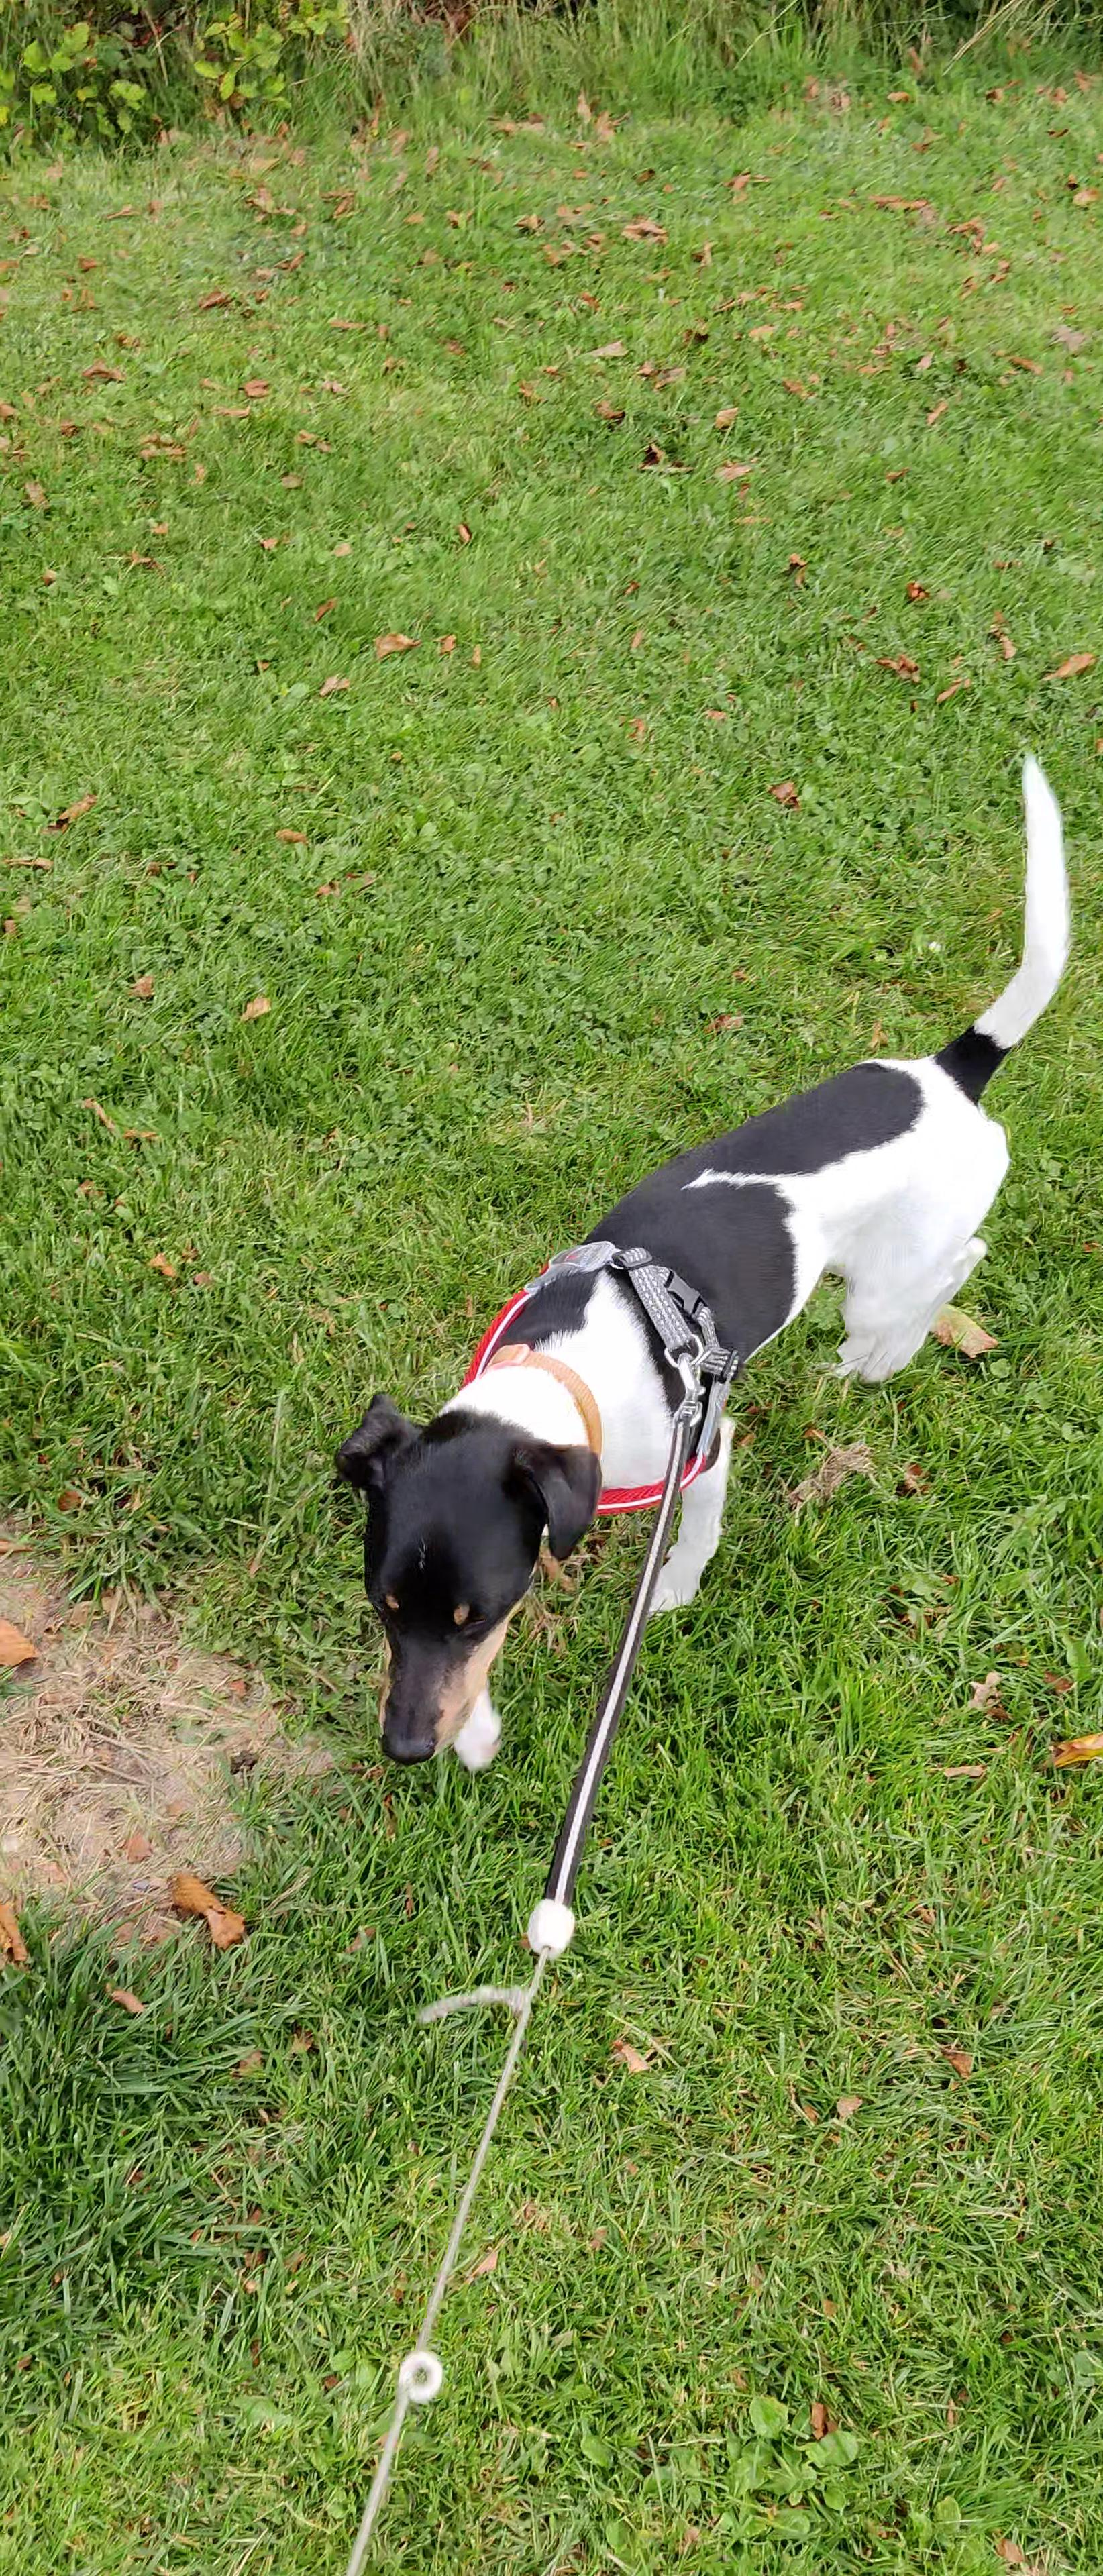Dog: (325, 738, 1083, 1776)
